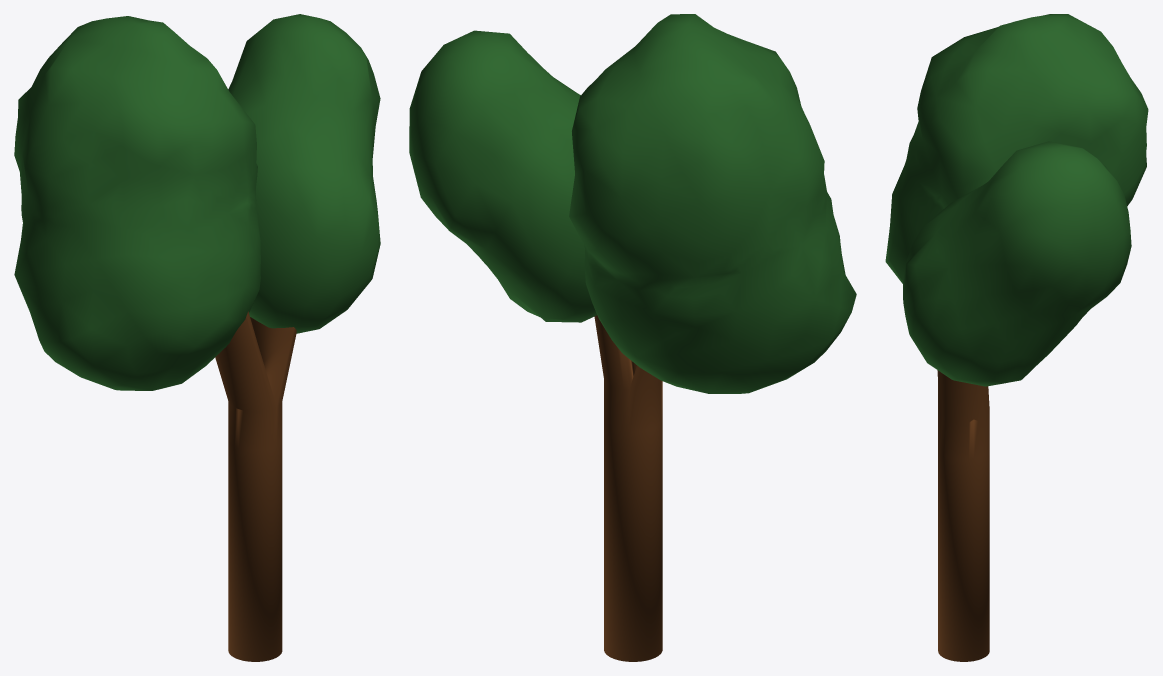
Rendered from trees_Tree_01.fbx.
3 renders of one model, left to right at view 1: azimuth 30°, elevation 25°; view 2: azimuth 150°, elevation 25°; view 3: azimuth 270°, elevation 25°, orthographic. The views are drawn at different scales.
Parts seen in each view (by area): view 1: Icosphere.004, Icosphere.003, Base.001; view 2: Icosphere.004, Icosphere.003, Base.001; view 3: Icosphere.003, Icosphere.004, Base.001.
Boxes of the visible parts, bbox=[...] form: Icosphere.004: bbox=[14, 16, 260, 390]; Icosphere.003: bbox=[228, 14, 380, 333]; Base.001: bbox=[215, 311, 296, 661]; Icosphere.004: bbox=[569, 14, 856, 393]; Icosphere.003: bbox=[409, 30, 596, 322]; Base.001: bbox=[594, 315, 662, 661]; Icosphere.003: bbox=[903, 141, 1131, 386]; Icosphere.004: bbox=[885, 14, 1148, 283]; Base.001: bbox=[937, 370, 989, 661].
Size of the model in its own units: 3.78 by 6.24 by 2.5.
